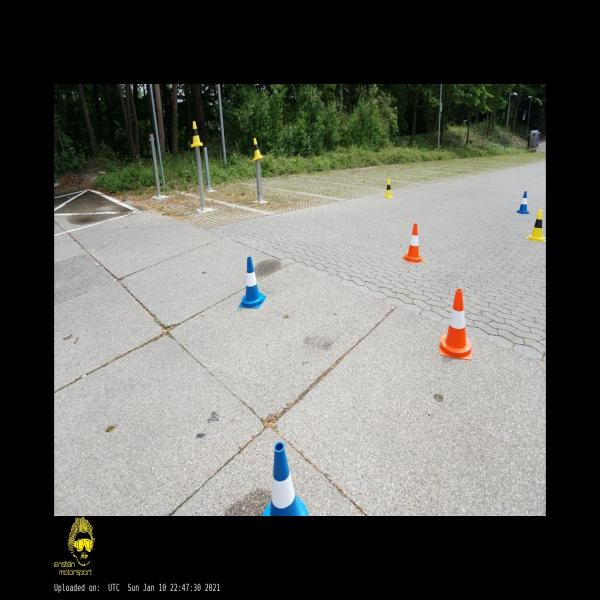blue_cone: (262, 444, 308, 516), (239, 257, 266, 308), (518, 191, 530, 214)
orange_cone: (439, 289, 472, 360), (402, 224, 422, 262)
yellow_cone: (526, 210, 546, 241), (191, 121, 203, 147), (252, 138, 264, 161), (384, 179, 392, 198)
